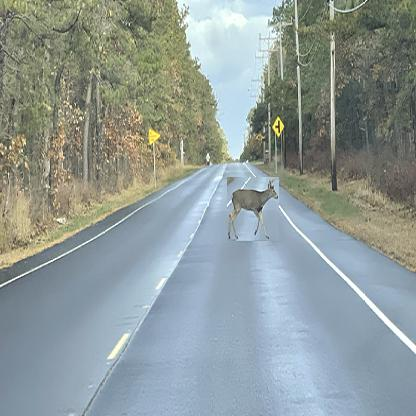Deer: (227, 177, 279, 241)
